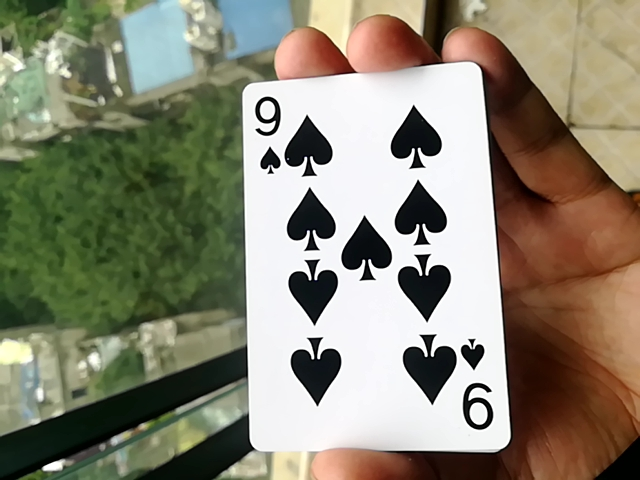ht 9: (242, 56, 497, 463)
